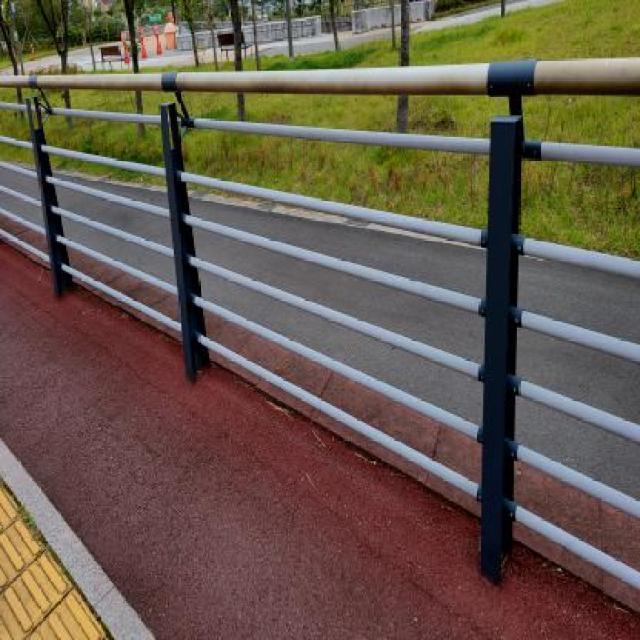fence: (204, 39, 633, 566), (10, 55, 244, 363)
